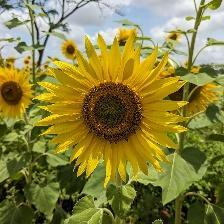sunflower: (47, 43, 187, 183), (159, 65, 221, 117), (1, 64, 36, 122), (113, 26, 142, 46), (63, 38, 81, 61), (164, 29, 184, 45), (25, 59, 31, 68), (27, 55, 34, 62)
